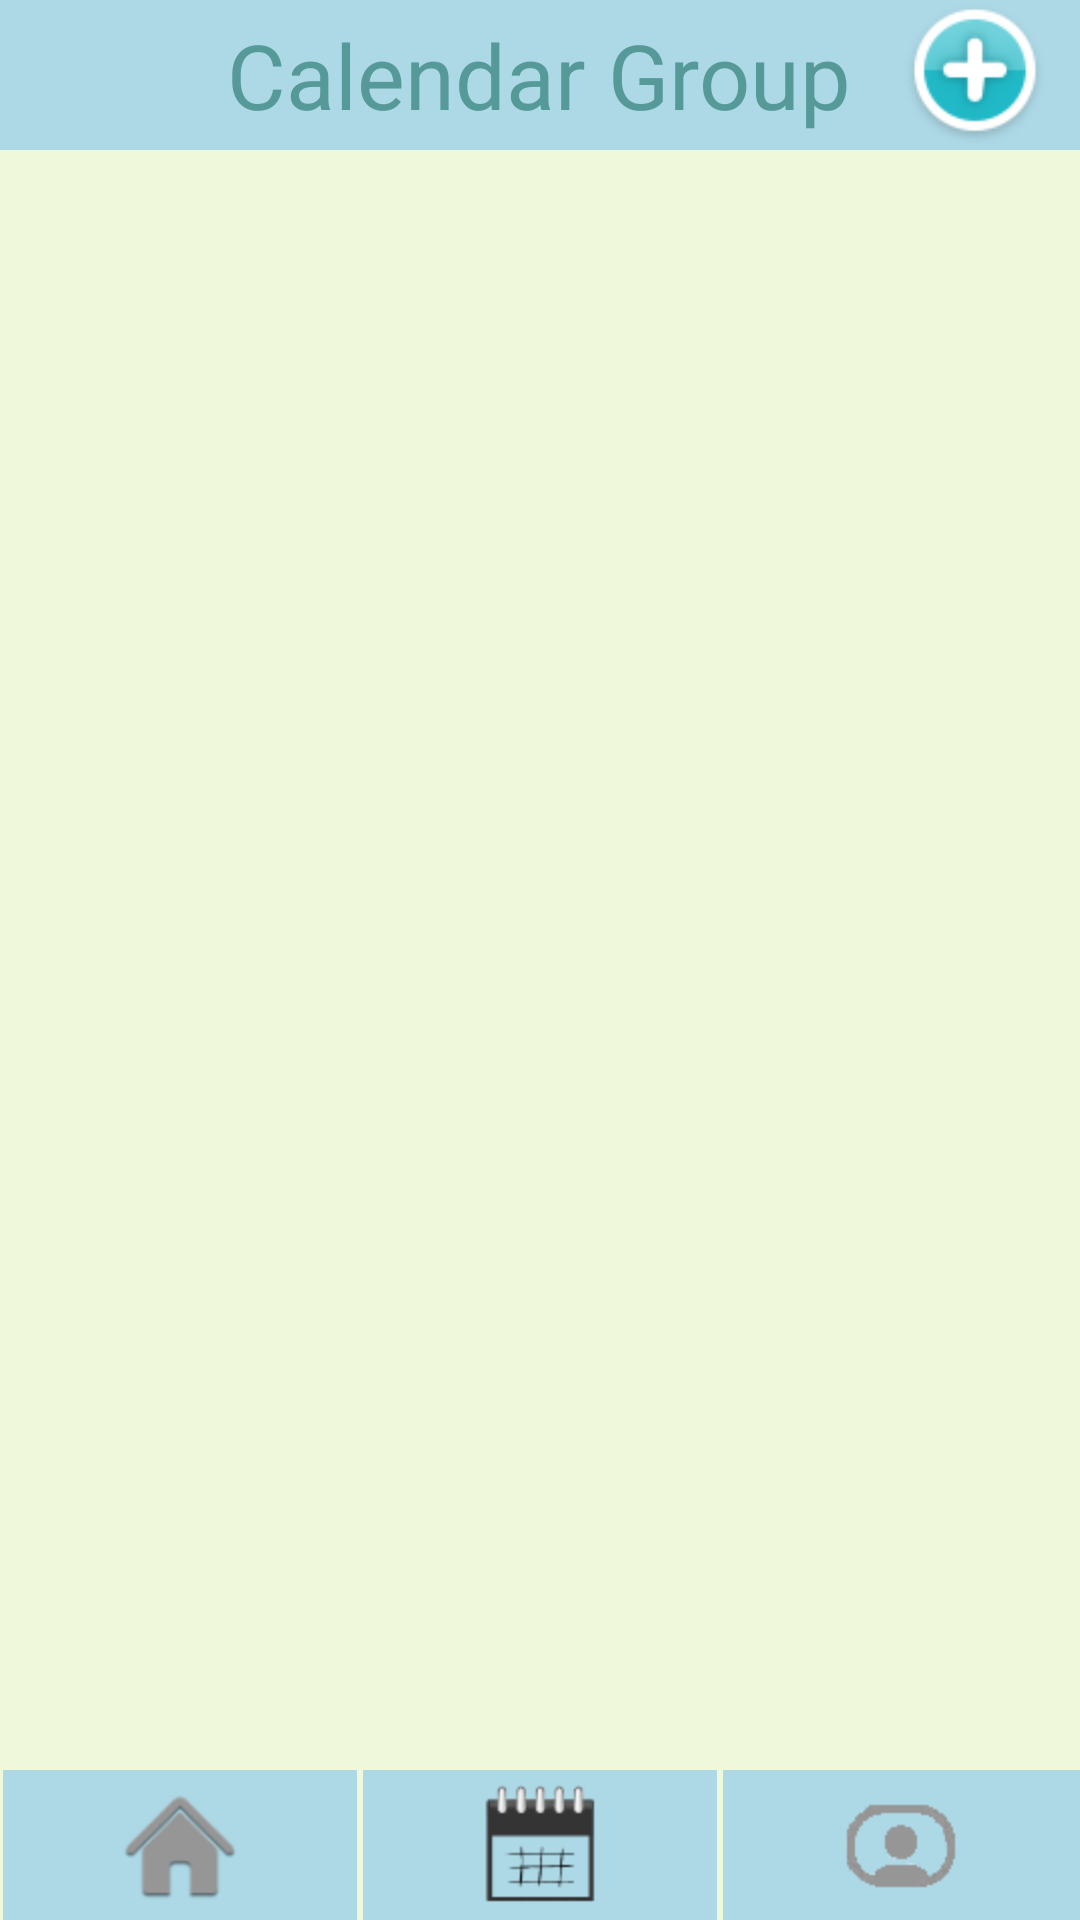

Named icons in this screenshot (1080w x 1920h) and their bounding boxes, (x1, y1, x2, y2):
addevent: (914, 9, 1036, 135)
